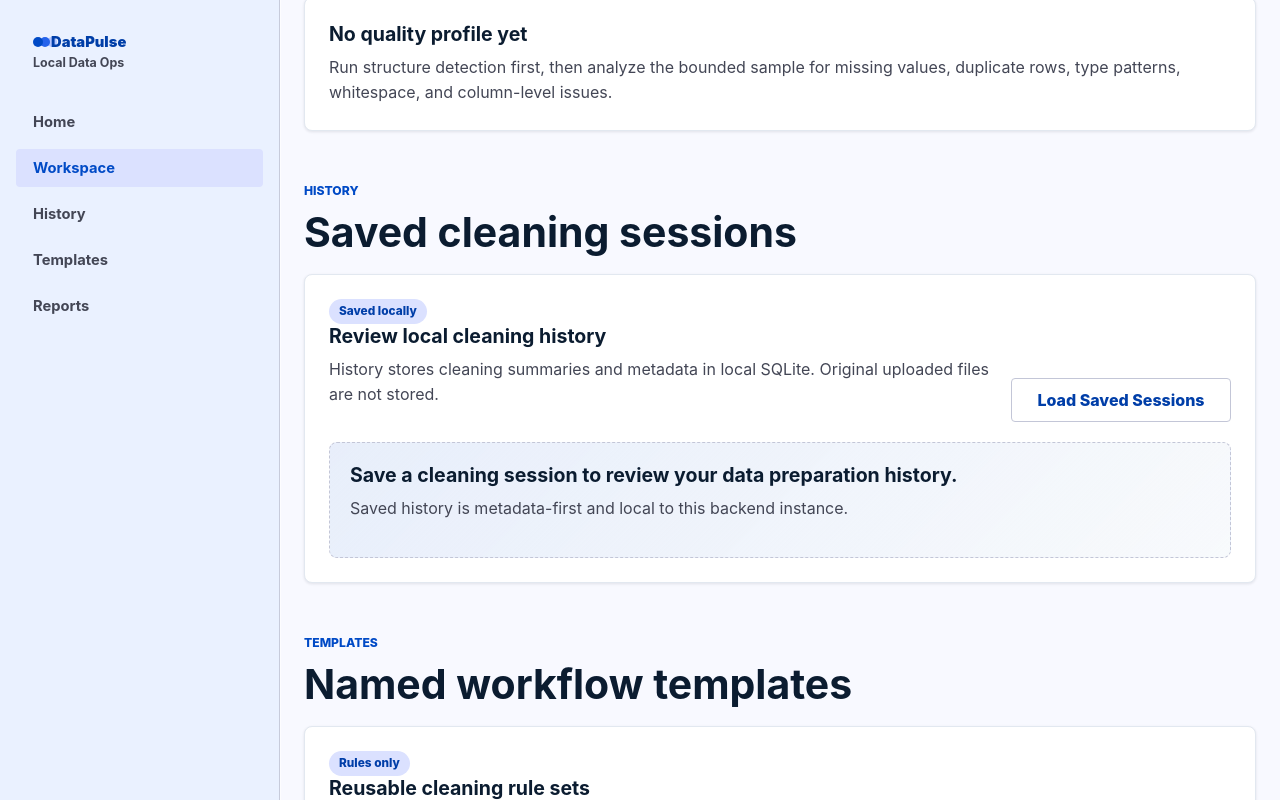
it: App › creates a workflow template from saved session rules
(page scrolled)
Click the button "Load Saved Sessions": [1121, 400] box [1011,378,1231,422]
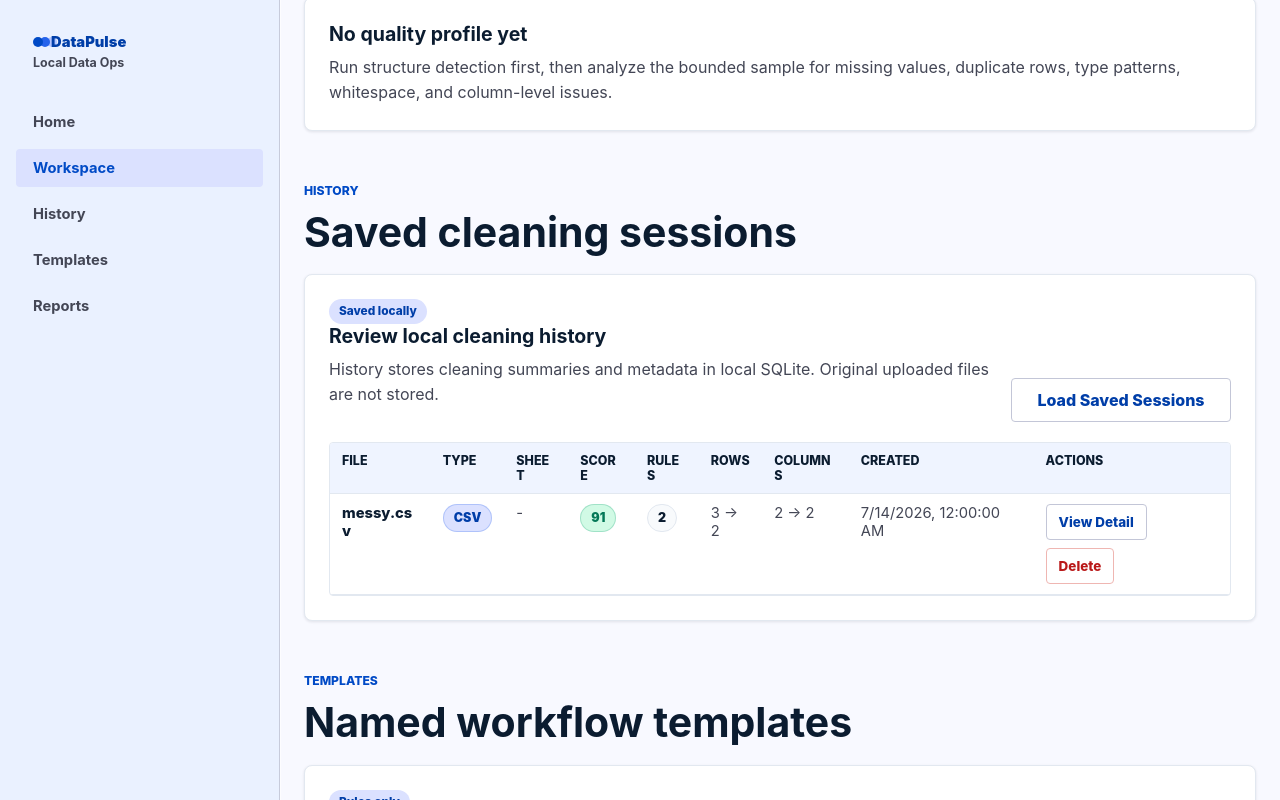
Expected: the button "View Detail" is shown
Click the button "View Detail": [1096, 522] box [1046,504,1147,540]
(page scrolled)
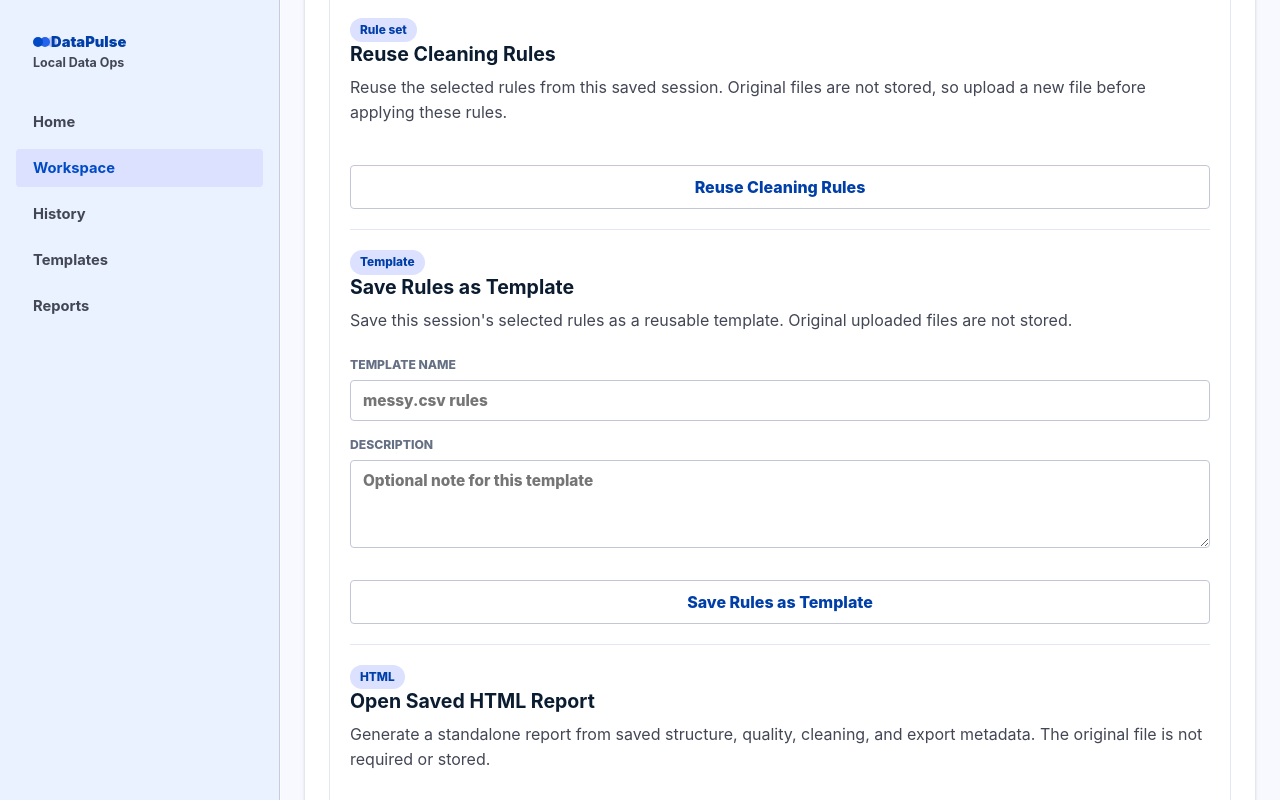
Expected: the button "Save Rules as Template" is shown, [350,580,1210,624]
In the field with placeholder "messy.csv rules": [780, 400] box [350,380,1210,421], type "Saved session cleanup"
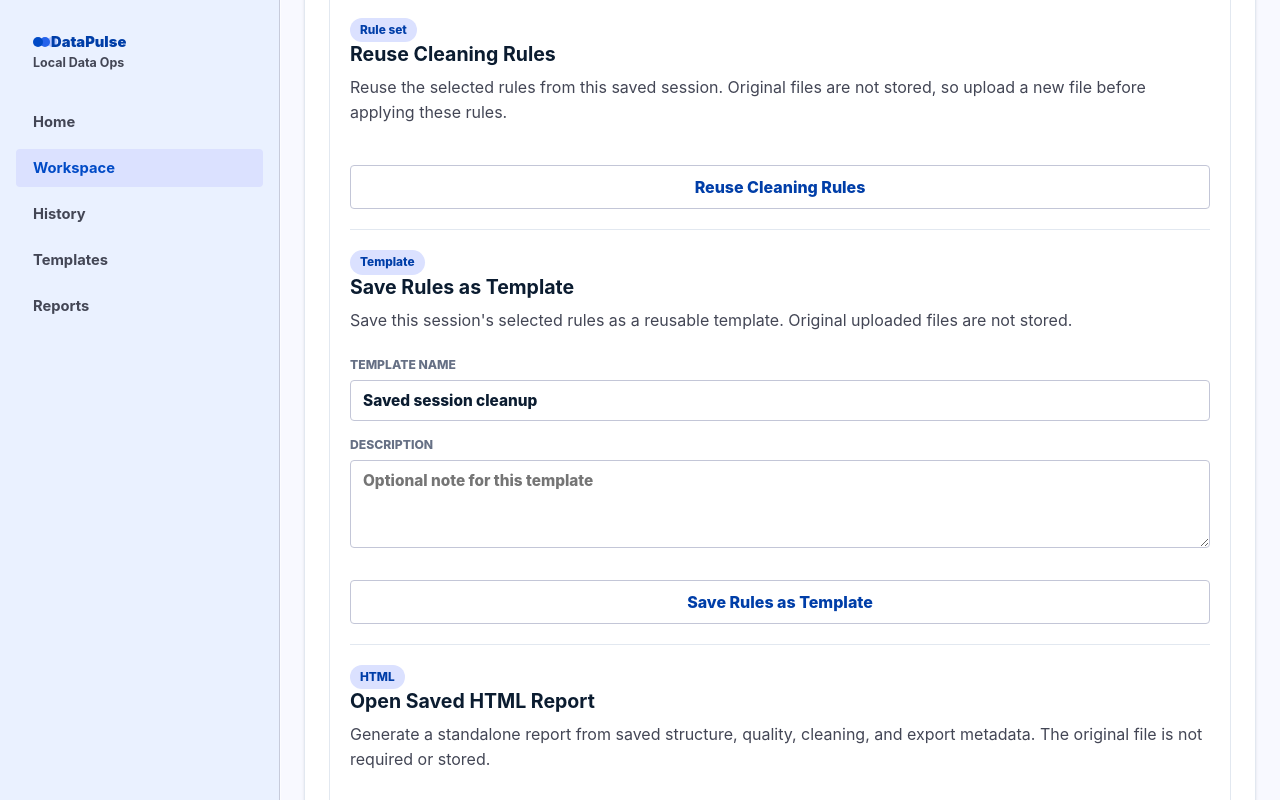
In the text box with placeholder "Optional note for this template": [780, 504] box [350,460,1210,548], type "Use for similar exports"
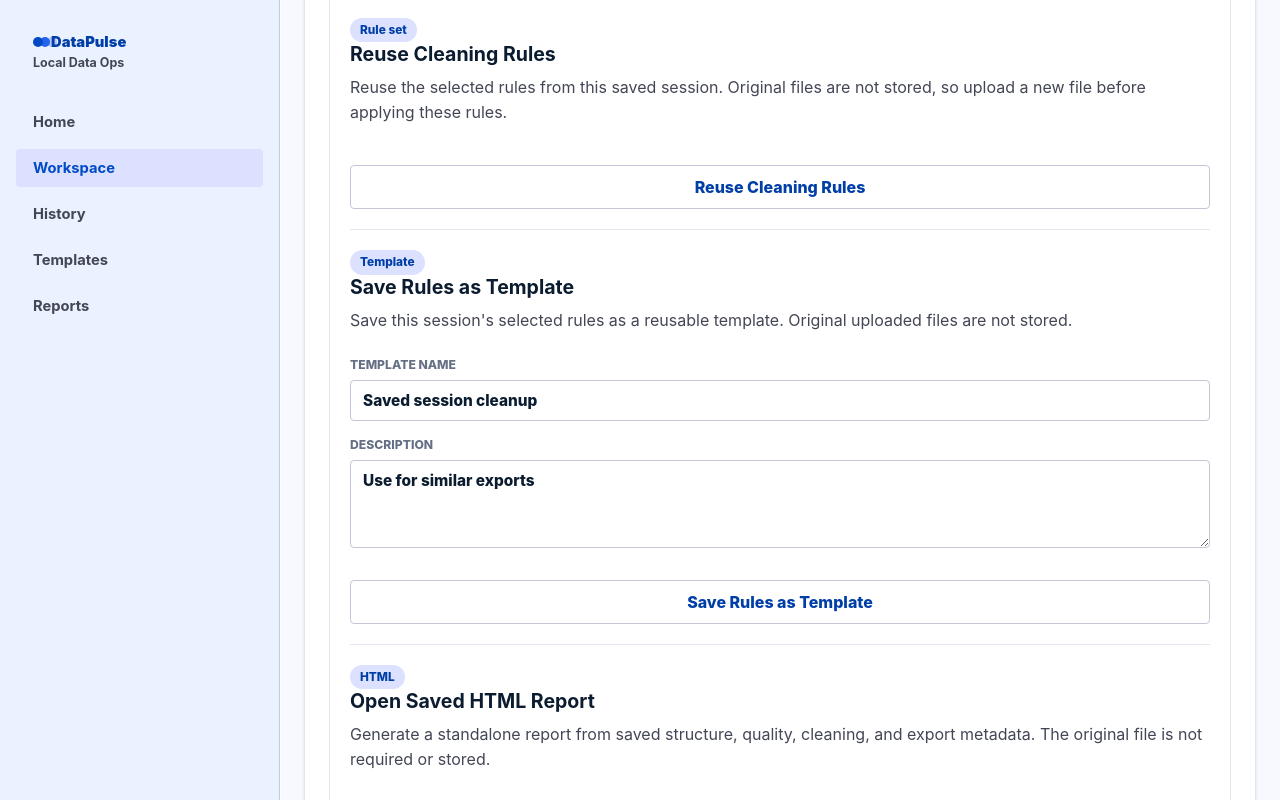
Click the button "Save Rules as Template": [780, 602] box [350,580,1210,624]
(page scrolled)
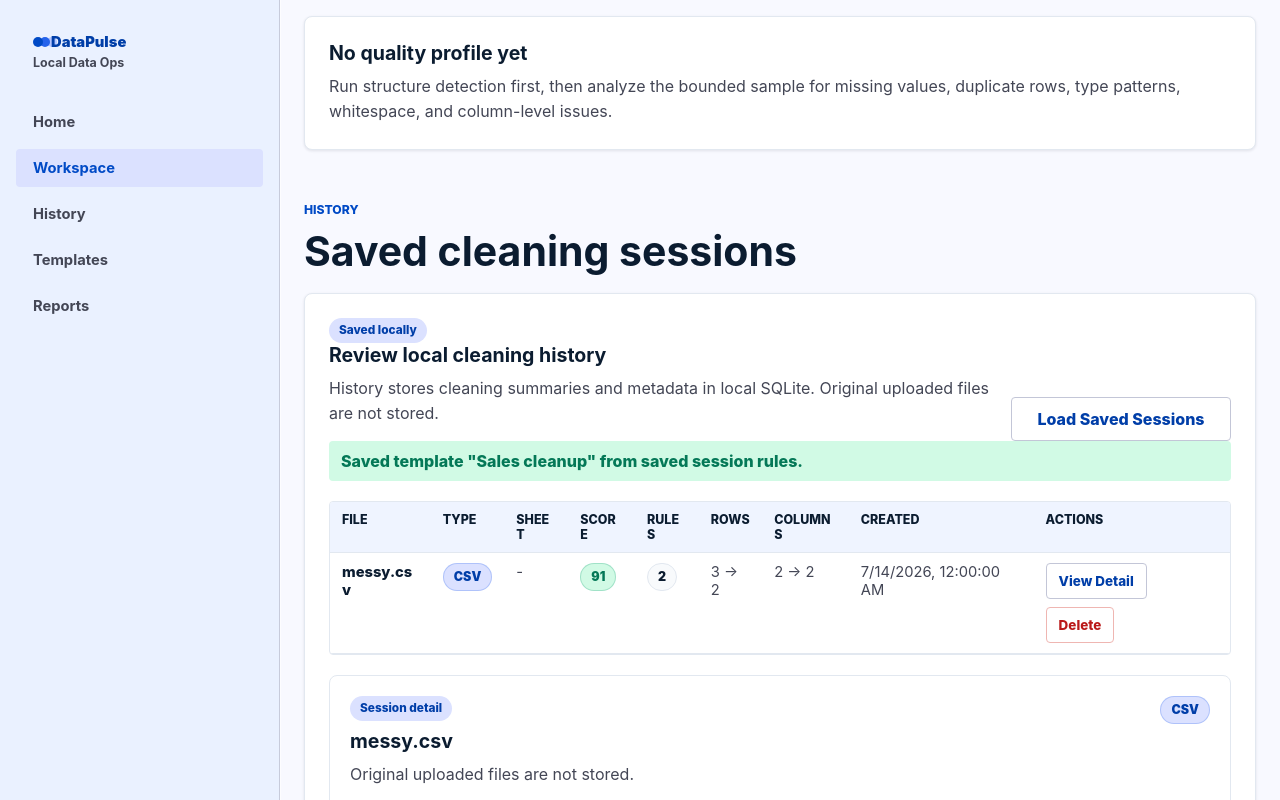
Expected: the text "Original uploaded files are not stored" is shown, [329,378,989,422]
Expected: the text "Saved template \"Sales cleanup\" from saved session rules." is shown, [329,441,1231,481]
